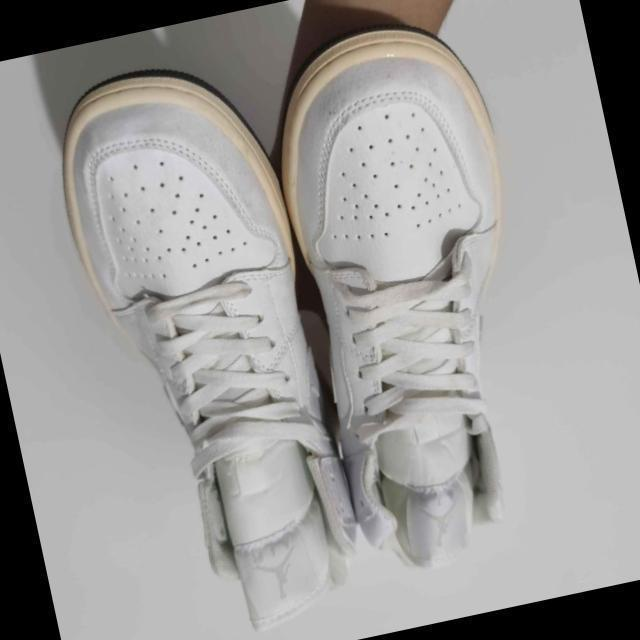nike fake jordan 1: (30, 45, 373, 640), (246, 8, 574, 586)
